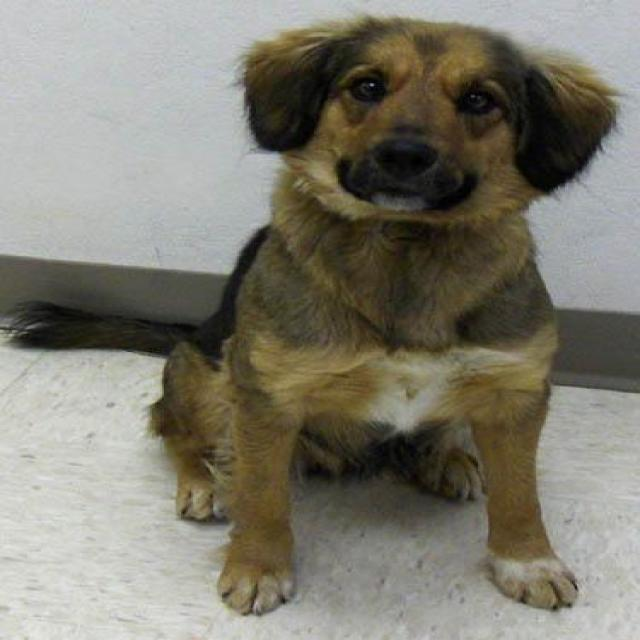dogs: (9, 18, 621, 619)
